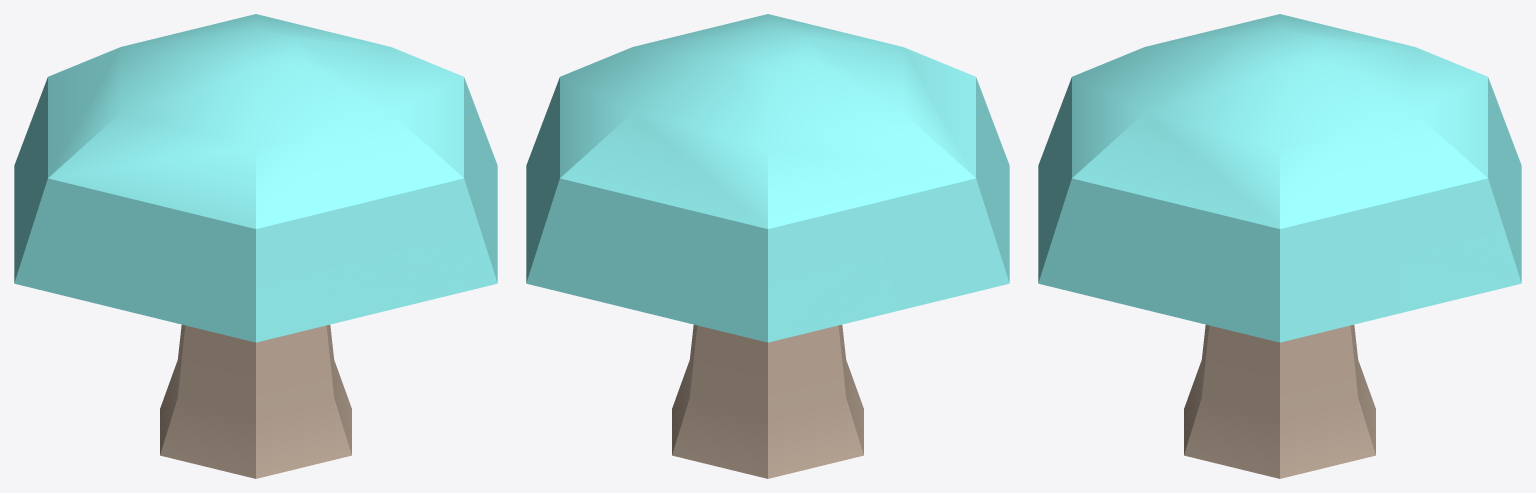
The model's file is Vegetation_Mushroom_Blue_03.fbx.
3 views of the same model, side by side, from view 1: azimuth 30°, elevation 25°; view 2: azimuth 150°, elevation 25°; view 3: azimuth 270°, elevation 25° (orthographic).
Parts seen in each view (by area): view 1: Vegetation_Mushroom_Blue_03; view 2: Vegetation_Mushroom_Blue_03; view 3: Vegetation_Mushroom_Blue_03.
Boxes of the visible parts, x1,y1,x2,y2 form: Vegetation_Mushroom_Blue_03: (14, 14, 497, 478); Vegetation_Mushroom_Blue_03: (526, 14, 1009, 478); Vegetation_Mushroom_Blue_03: (1038, 14, 1521, 478).
Size of the model in its own units: 17.29 by 13.08 by 14.98.
